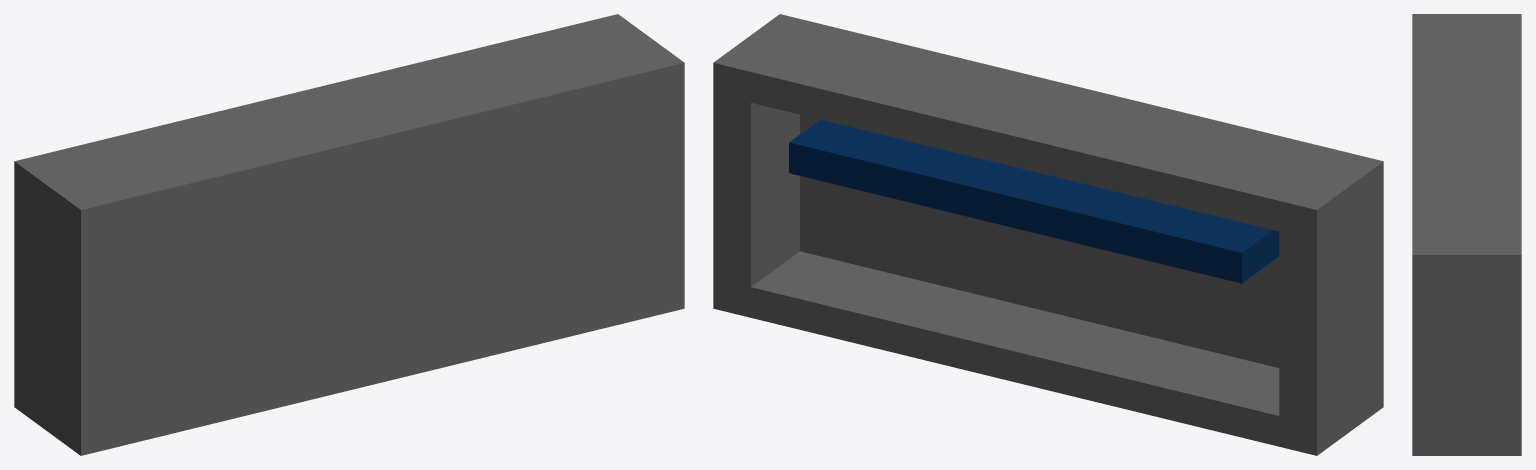
File: Case usb3.glb
3 renders of one model, left to right at view 1: azimuth 30°, elevation 25°; view 2: azimuth 150°, elevation 25°; view 3: azimuth 270°, elevation 25°, orthographic. The views are drawn at different scales.
Visible parts, largest first — view 1: Case usb3; view 2: Case usb3; view 3: Case usb3.
Part boxes in pixels (box(x1,y1,x2,y2)): Case usb3: box(14, 14, 684, 455); Case usb3: box(713, 14, 1383, 455); Case usb3: box(1412, 14, 1521, 455).
Size of the model in its own units: 0.6198 by 0.2412 by 0.1185.
